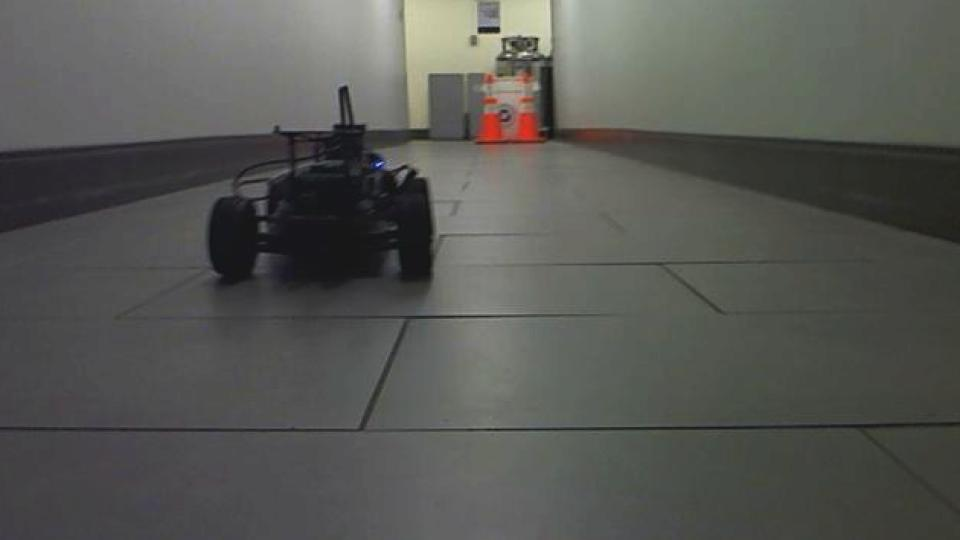car: (204, 82, 439, 287)
